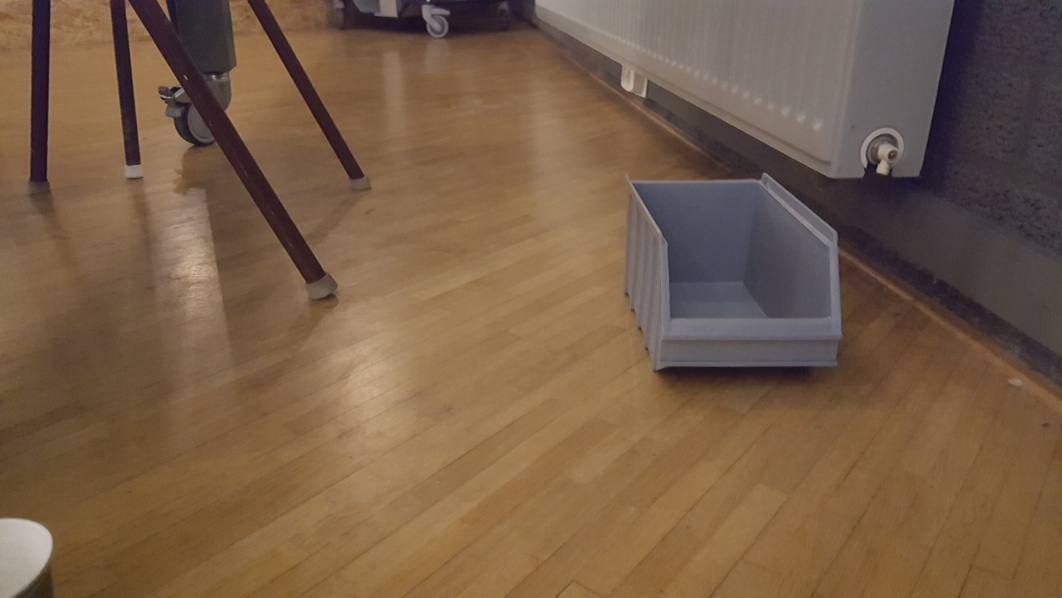tray: (621, 169, 844, 382)
